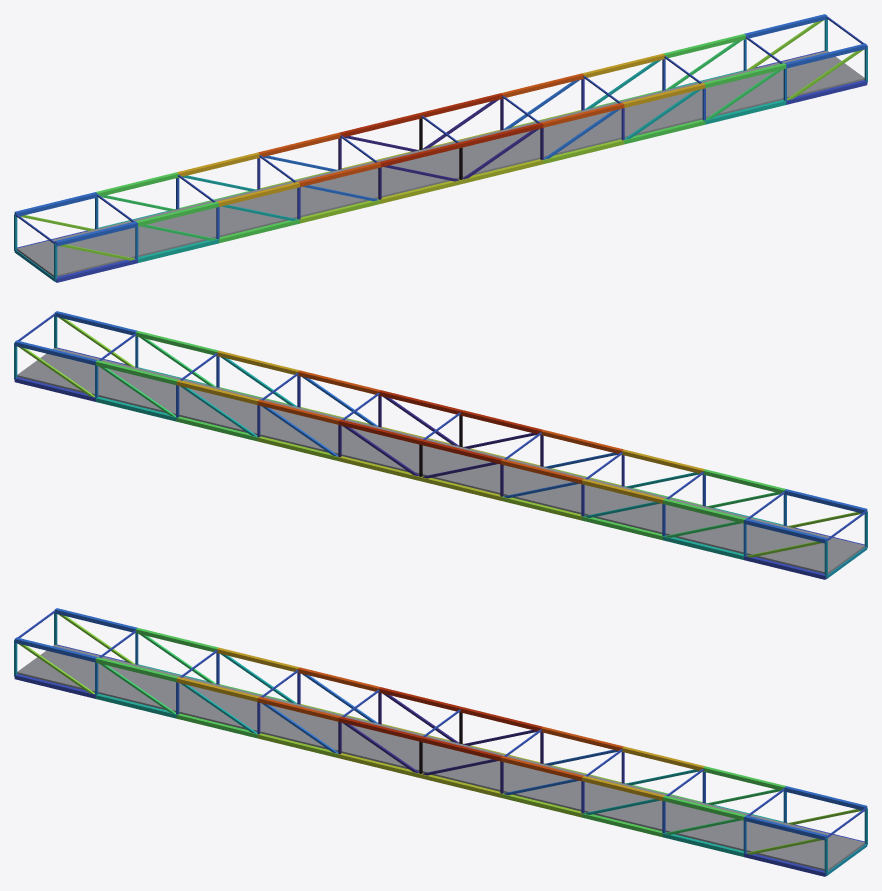
File: 35_1.5_10_HEA240.glb
3 renders of one model, top to bottom at view 1: azimuth 30°, elevation 25°; view 2: azimuth 150°, elevation 25°; view 3: azimuth 330°, elevation 25°, orthographic.
Bounding box in the file's own units: 35.09 × 1.66 × 3.16.
